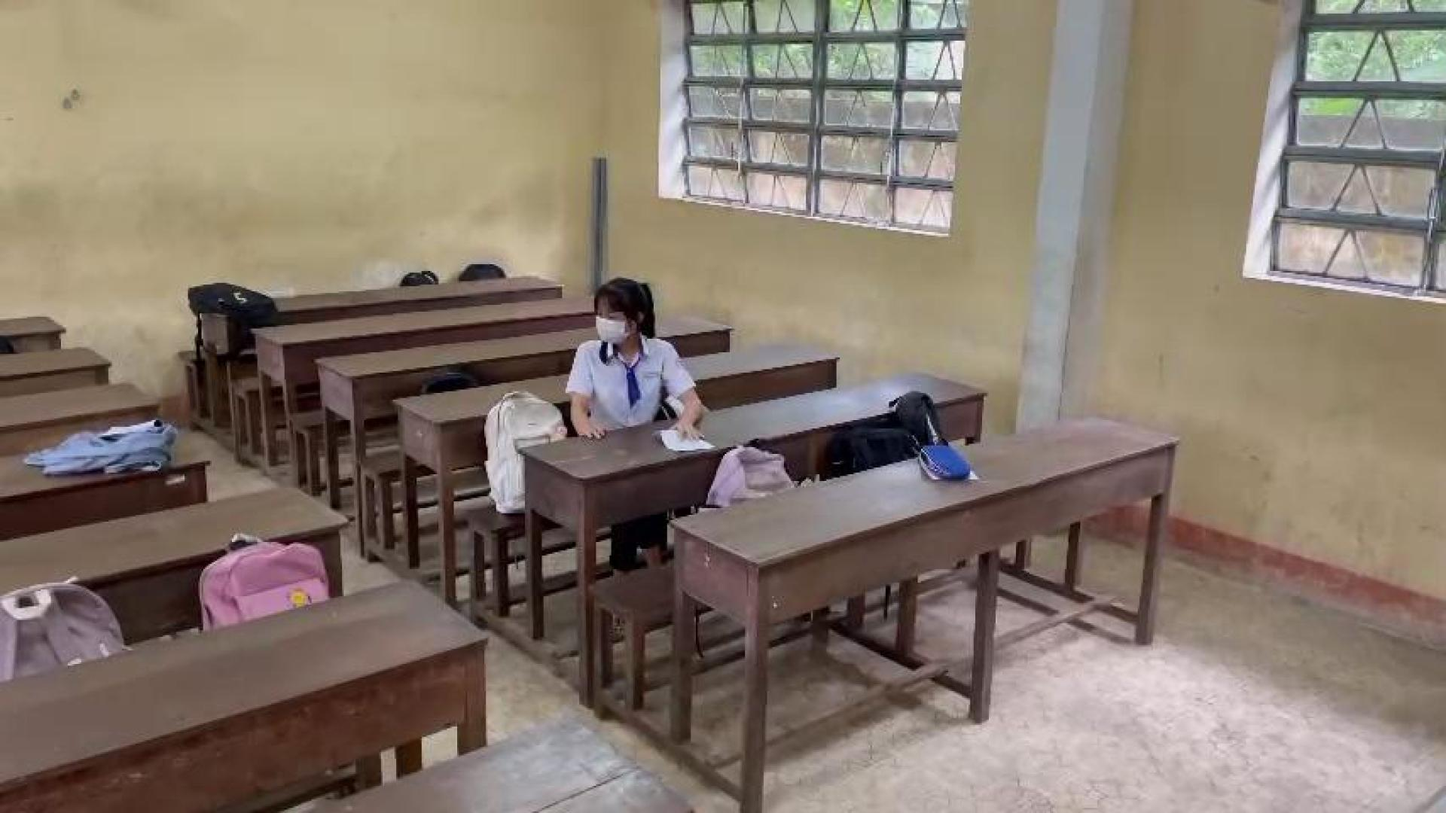Look Around: (577, 268, 662, 369)
